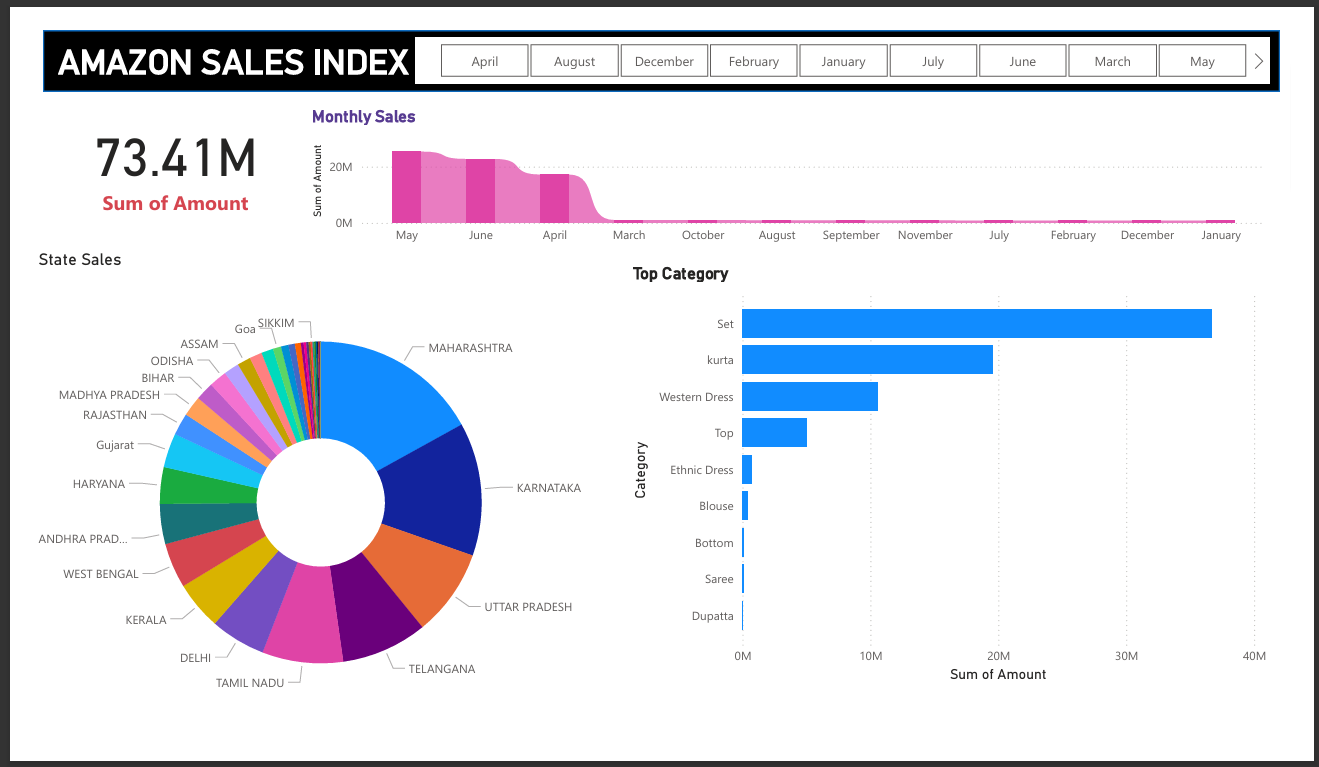

What the dashboard file says about the page in this screenshot:
{"tool":"powerbi","page":{"name":"Page 1","canvas":[1280,720],"ordinal":0},"visuals":[{"type":"shape","box":[9.9,0,1258.9,62],"z":0},{"type":"card","fields":{"Values":["Sum(Amazon Sale Report.Amount)"]},"box":[10,75.8,268.9,118.7],"z":1000},{"type":"ribbonChart","title":"Monthly Sales","fields":{"Category":["Amazon Sale Report.MONTH"],"Y":["Sum(Amazon Sale Report.Amount)"]},"box":[278.9,77.2,981.1,148.7],"z":2000},{"type":"slicer","fields":{"Values":["Amazon Sale Report.MONTH"]},"box":[389,7.2,869.5,47.2],"z":3000},{"type":"clusteredBarChart","title":"Top Category","fields":{"Category":["Amazon Sale Report.Category"],"Y":["Sum(Amazon Sale Report.Amount)"]},"box":[605,237.4,655,430.5],"z":4000},{"type":"donutChart","title":"State Sales","fields":{"Category":["Amazon Sale Report.ship-state"],"Y":["Sum(Amazon Sale Report.Amount)"]},"box":[0,223.1,584.9,496.3],"z":5000}]}

Visuals, with their boxes on the page's 1280x720 design canvas (x1, y1, x2, y2). These are canvas units, not pixel positions in the 1319x767 screenshot, which may show the page scaled, cropped or inside an application window:
shape: region(10, 0, 1269, 62)
card - Sum(Amazon Sale Report.Amount): region(10, 76, 279, 194)
"Monthly Sales" ribbonChart: region(279, 77, 1260, 226)
slicer - Amazon Sale Report.MONTH: region(389, 7, 1258, 54)
"Top Category" clusteredBarChart: region(605, 237, 1260, 668)
"State Sales" donutChart: region(0, 223, 585, 719)
